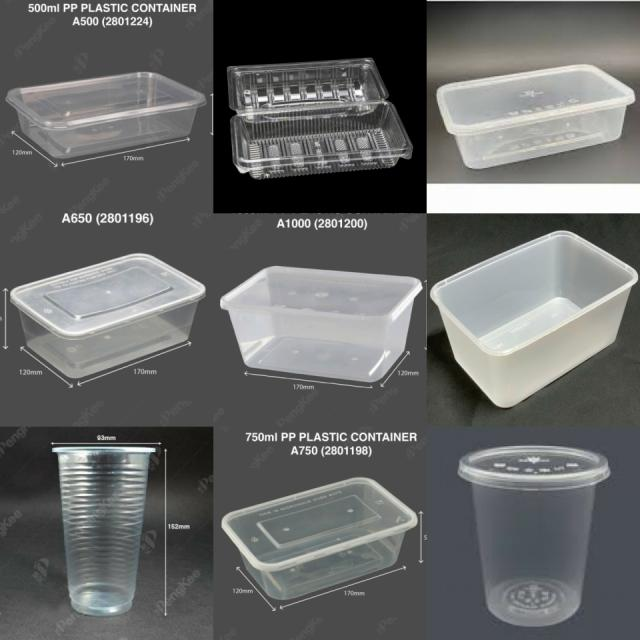Single-Use-Plastic: (430, 231, 638, 408), (458, 445, 610, 626), (10, 254, 205, 379), (221, 478, 418, 599), (220, 266, 422, 382), (228, 59, 412, 179), (436, 64, 635, 169), (52, 446, 155, 616), (6, 72, 206, 159)
